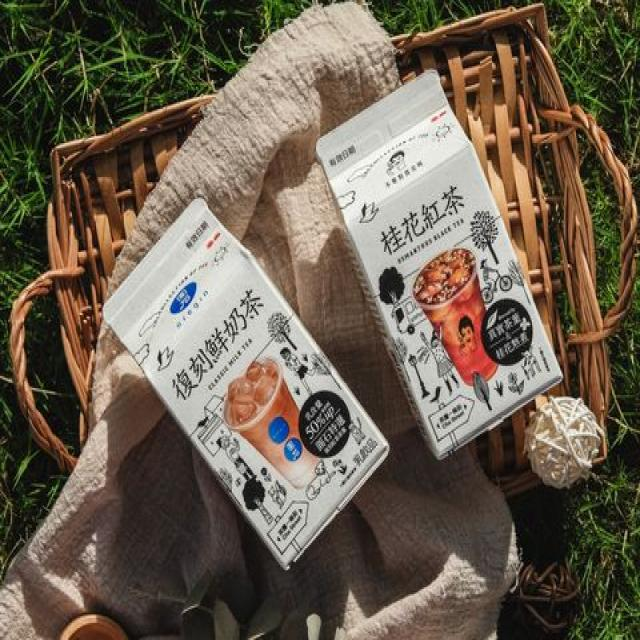non_white_jug: (75, 181, 408, 598), (295, 30, 580, 475)
